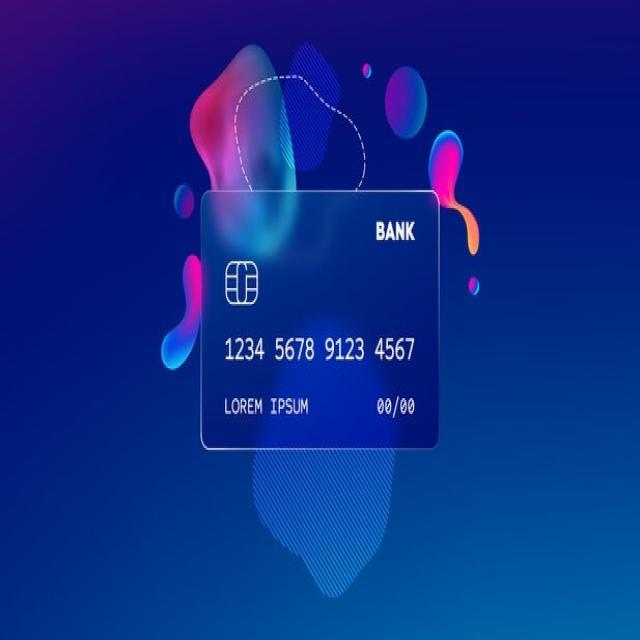payment_card: (198, 188, 441, 451)
